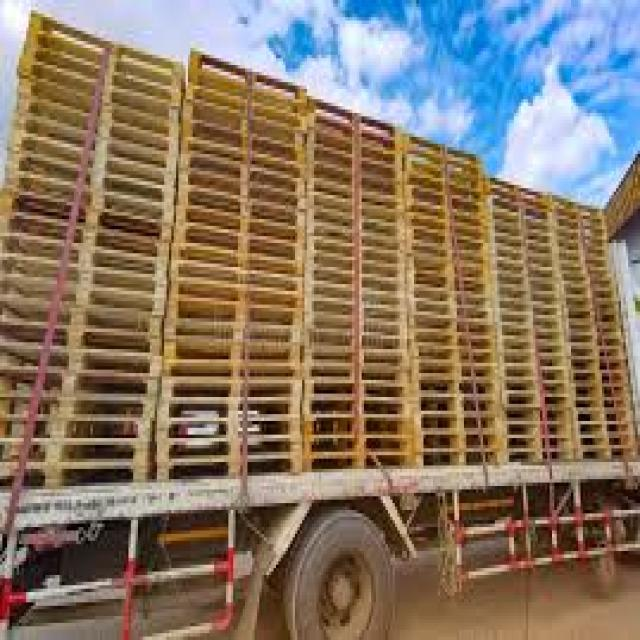Wooden-Pallets: (192, 44, 307, 129), (178, 138, 302, 210), (178, 254, 302, 299), (404, 254, 489, 298), (402, 139, 486, 183)
